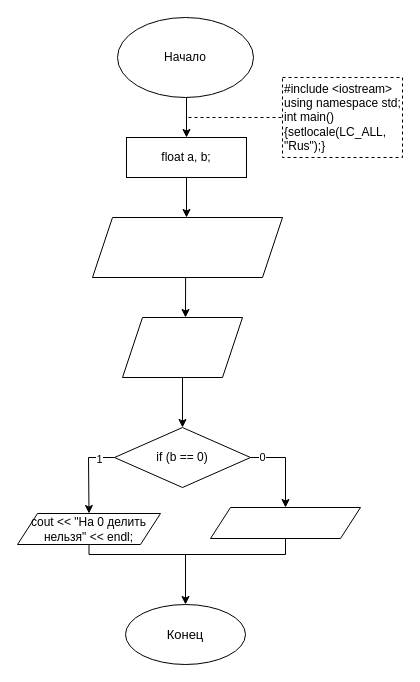
This 420x682 diagram has some shape labels left out. The shapes that lost their labels are listed below. From the top down, each one's centre as x and y in pixels, then its label:
point 187,247: cout << "Введите делимое и делитель: ";
point 182,347: cin >> a >> b;
point 285,522: cout << a / b << endl;
